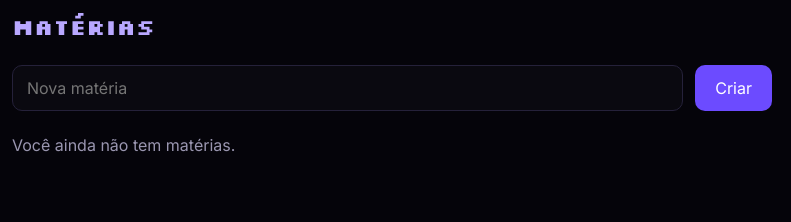
Test case: SubjectsPage › cria matéria com título aparado e a exibe
Expected: the text "Você ainda não tem matérias." is shown, x1=12 y1=135 x2=235 y2=155
Type "  Sistemas  " into the field labelled "Nova matéria" at coordinates (348, 88), box x1=12 y1=65 x2=683 y2=111
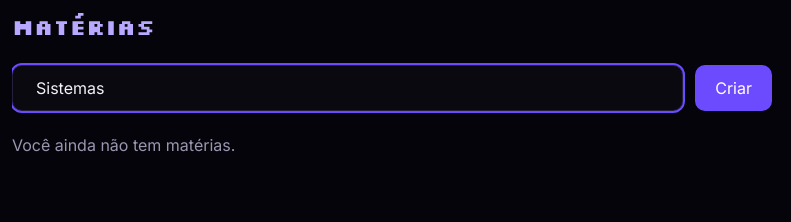
Click the button "Criar" at coordinates (734, 88), box x1=695 y1=65 x2=772 y2=111
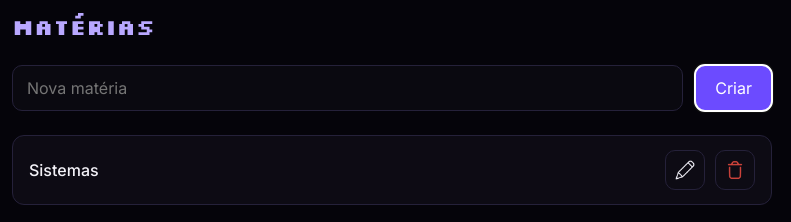
Expected: the link "Sistemas" is shown, x1=29 y1=160 x2=99 y2=180
